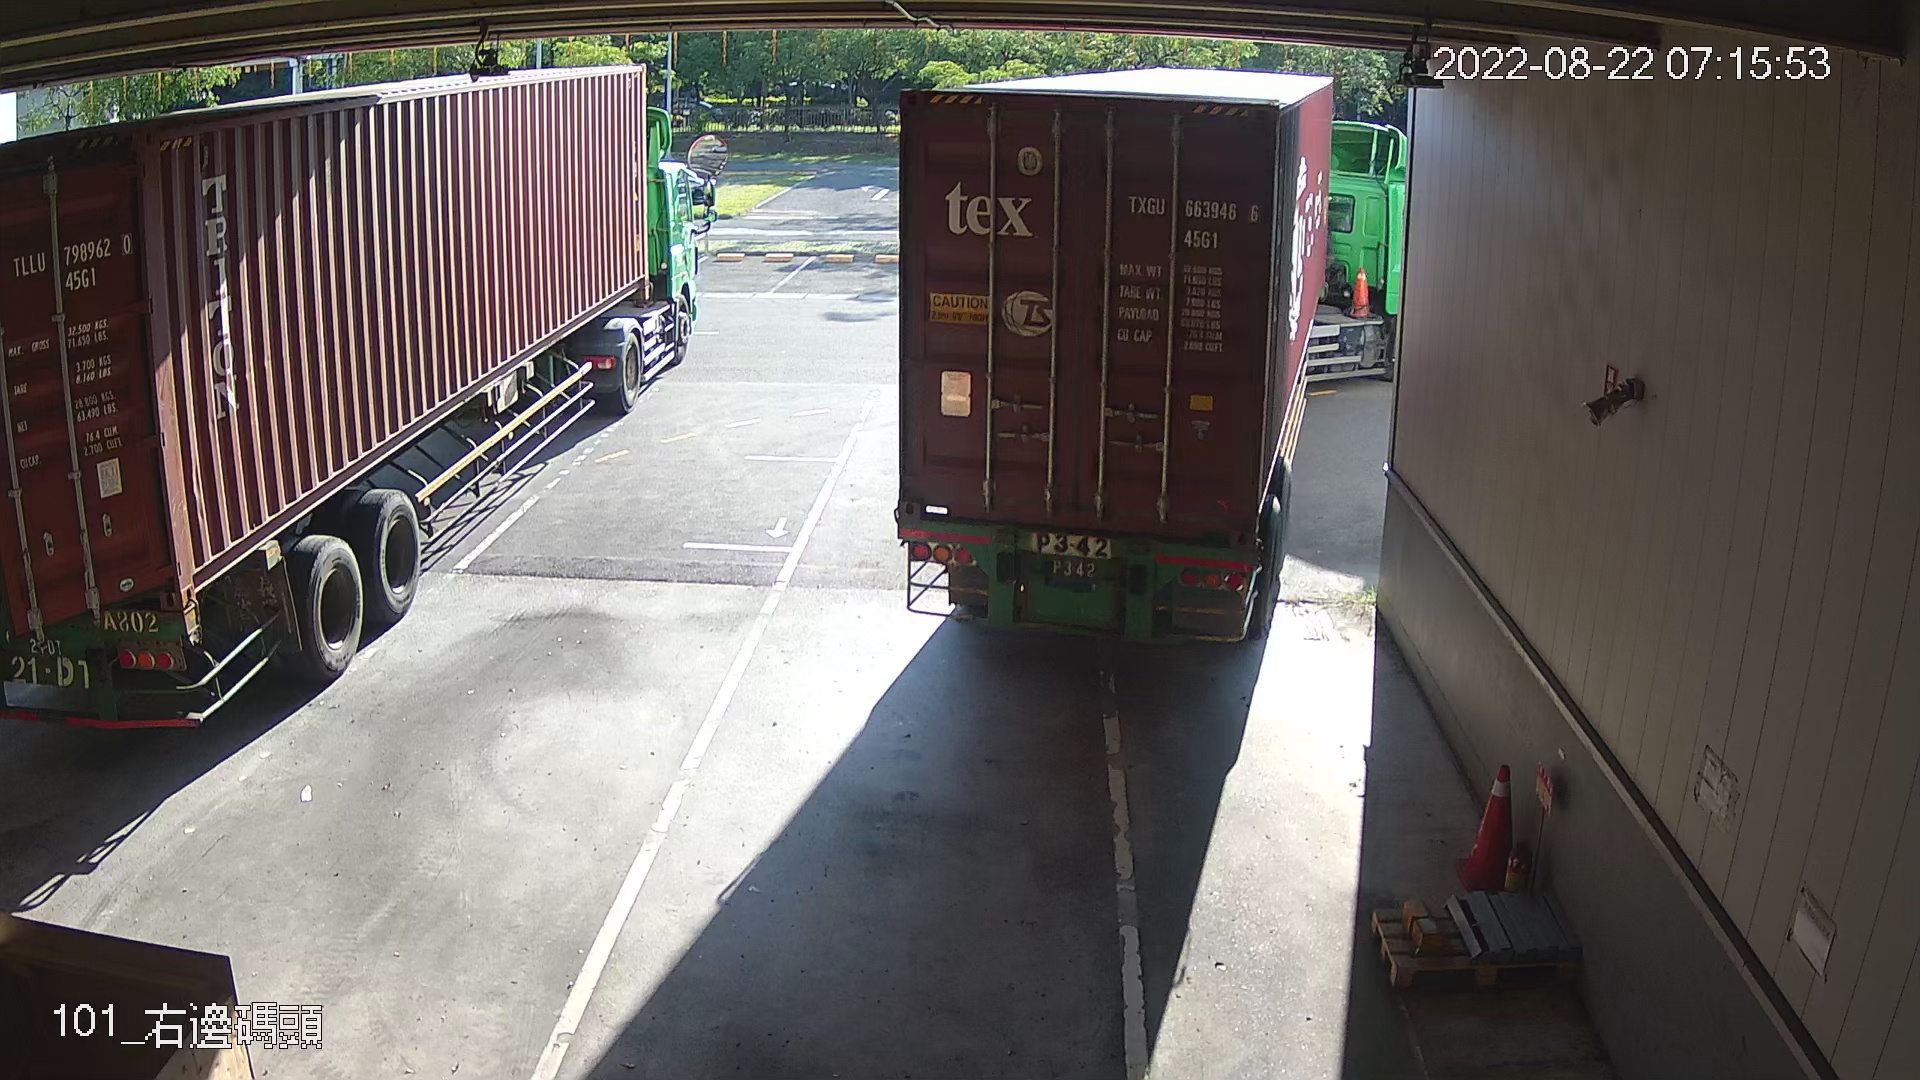container: (1120, 185, 1266, 252)
